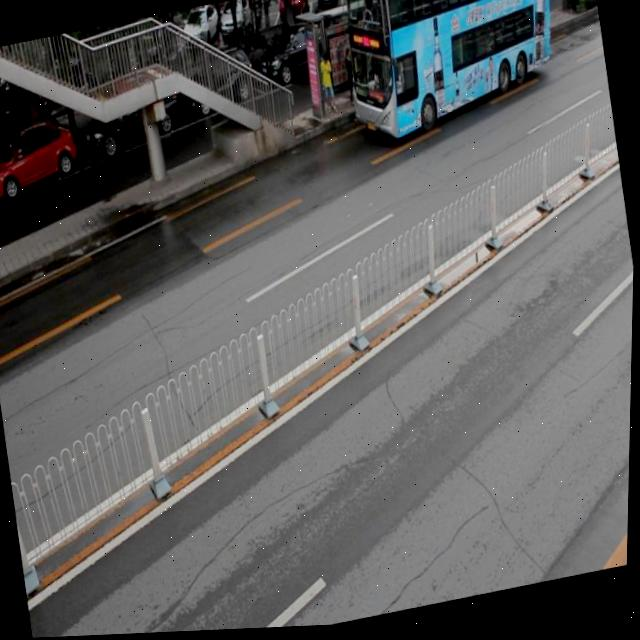car: (79, 84, 186, 165), (0, 117, 83, 205), (251, 22, 342, 101), (179, 47, 257, 120)
van: (332, 0, 570, 148)
